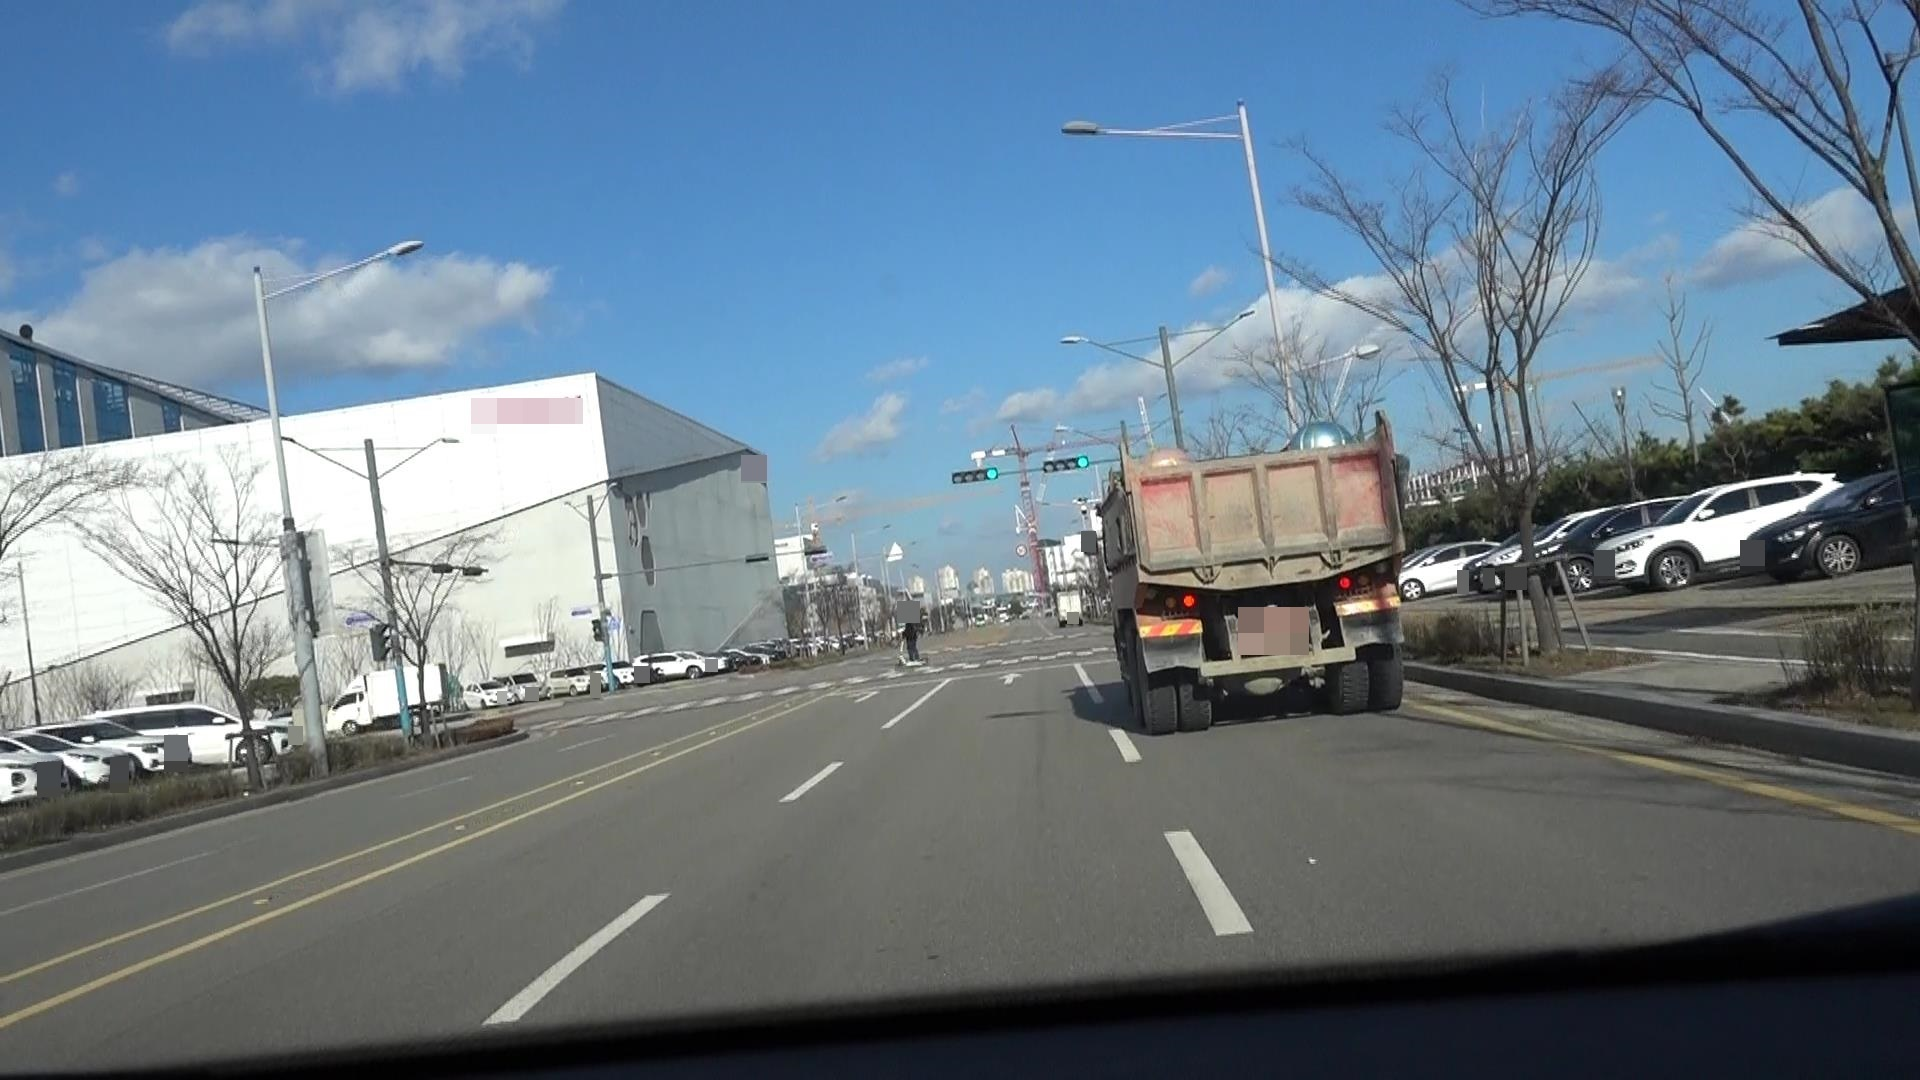불법차량: (1096, 409, 1410, 737)
